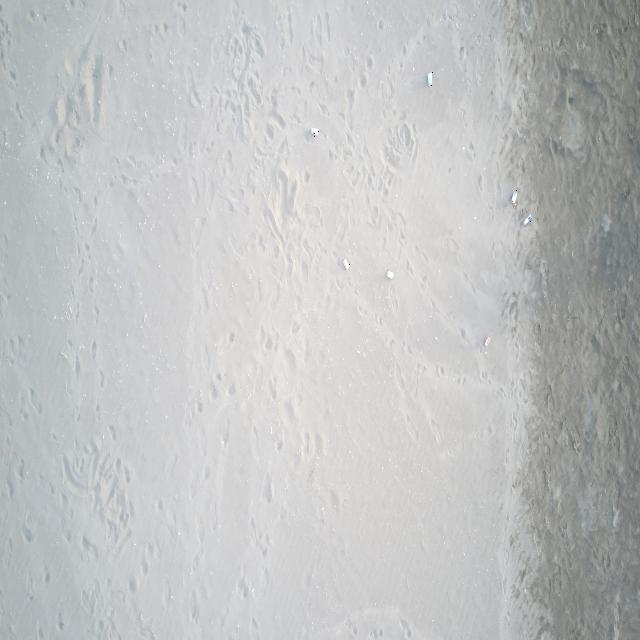tin-and-aluminum-cans: (384, 269, 395, 280), (427, 69, 433, 88), (523, 214, 532, 226), (511, 190, 518, 205), (310, 127, 320, 137), (343, 258, 350, 272), (485, 336, 490, 346)
